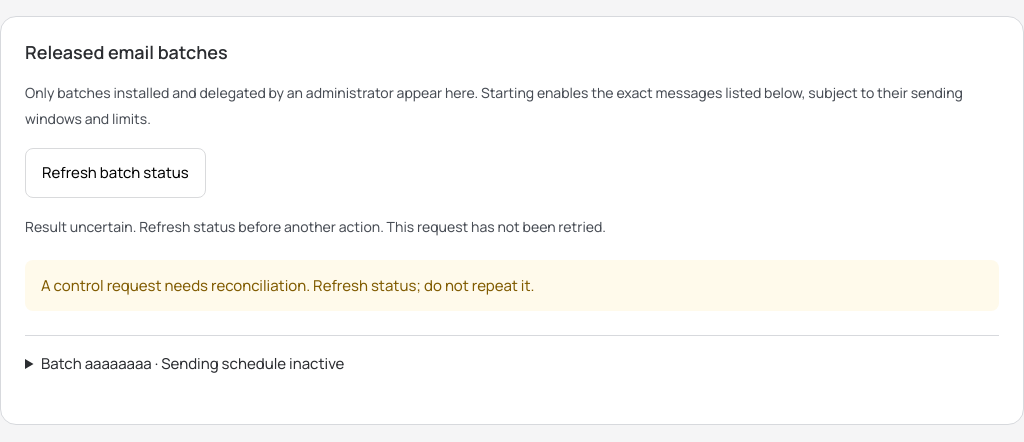
Scenario: uncertain action locks repeat until explicit status confirms both schedules
This screenshot has width=1024, height=442.
Earlier steps of the test are not shown.
Expected: the text "Result uncertain" is shown, [25,217,606,236]
Click the button "Refresh batch status": (115, 173) [25,148,206,198]
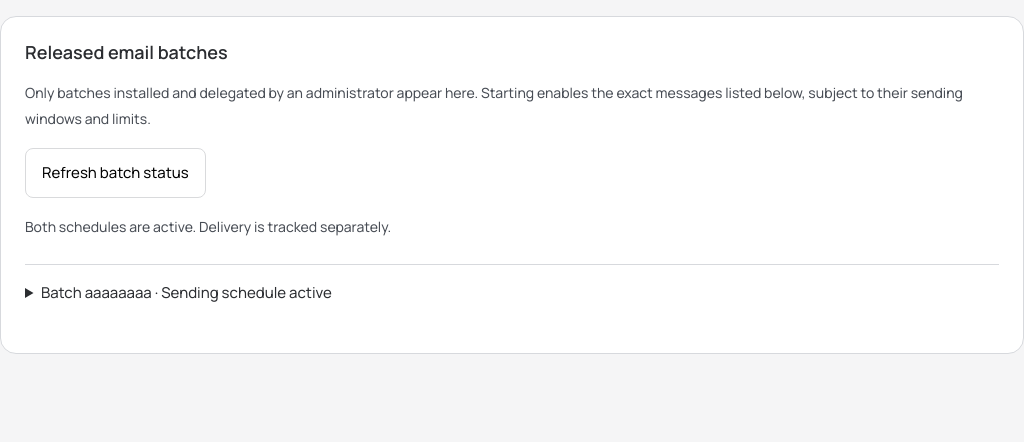
Expected: the text "Both schedules are active" is shown, [25,217,391,236]
